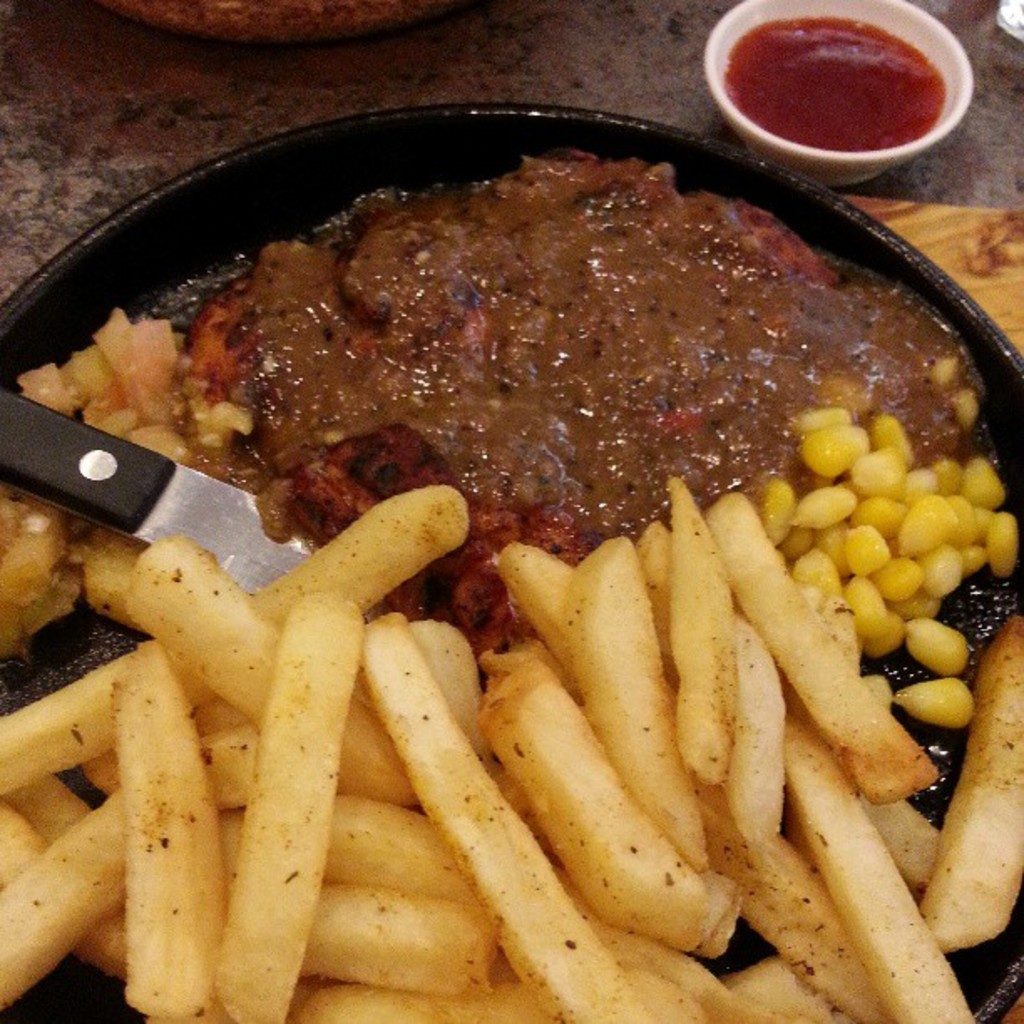French fries: (0, 468, 1022, 1022)
